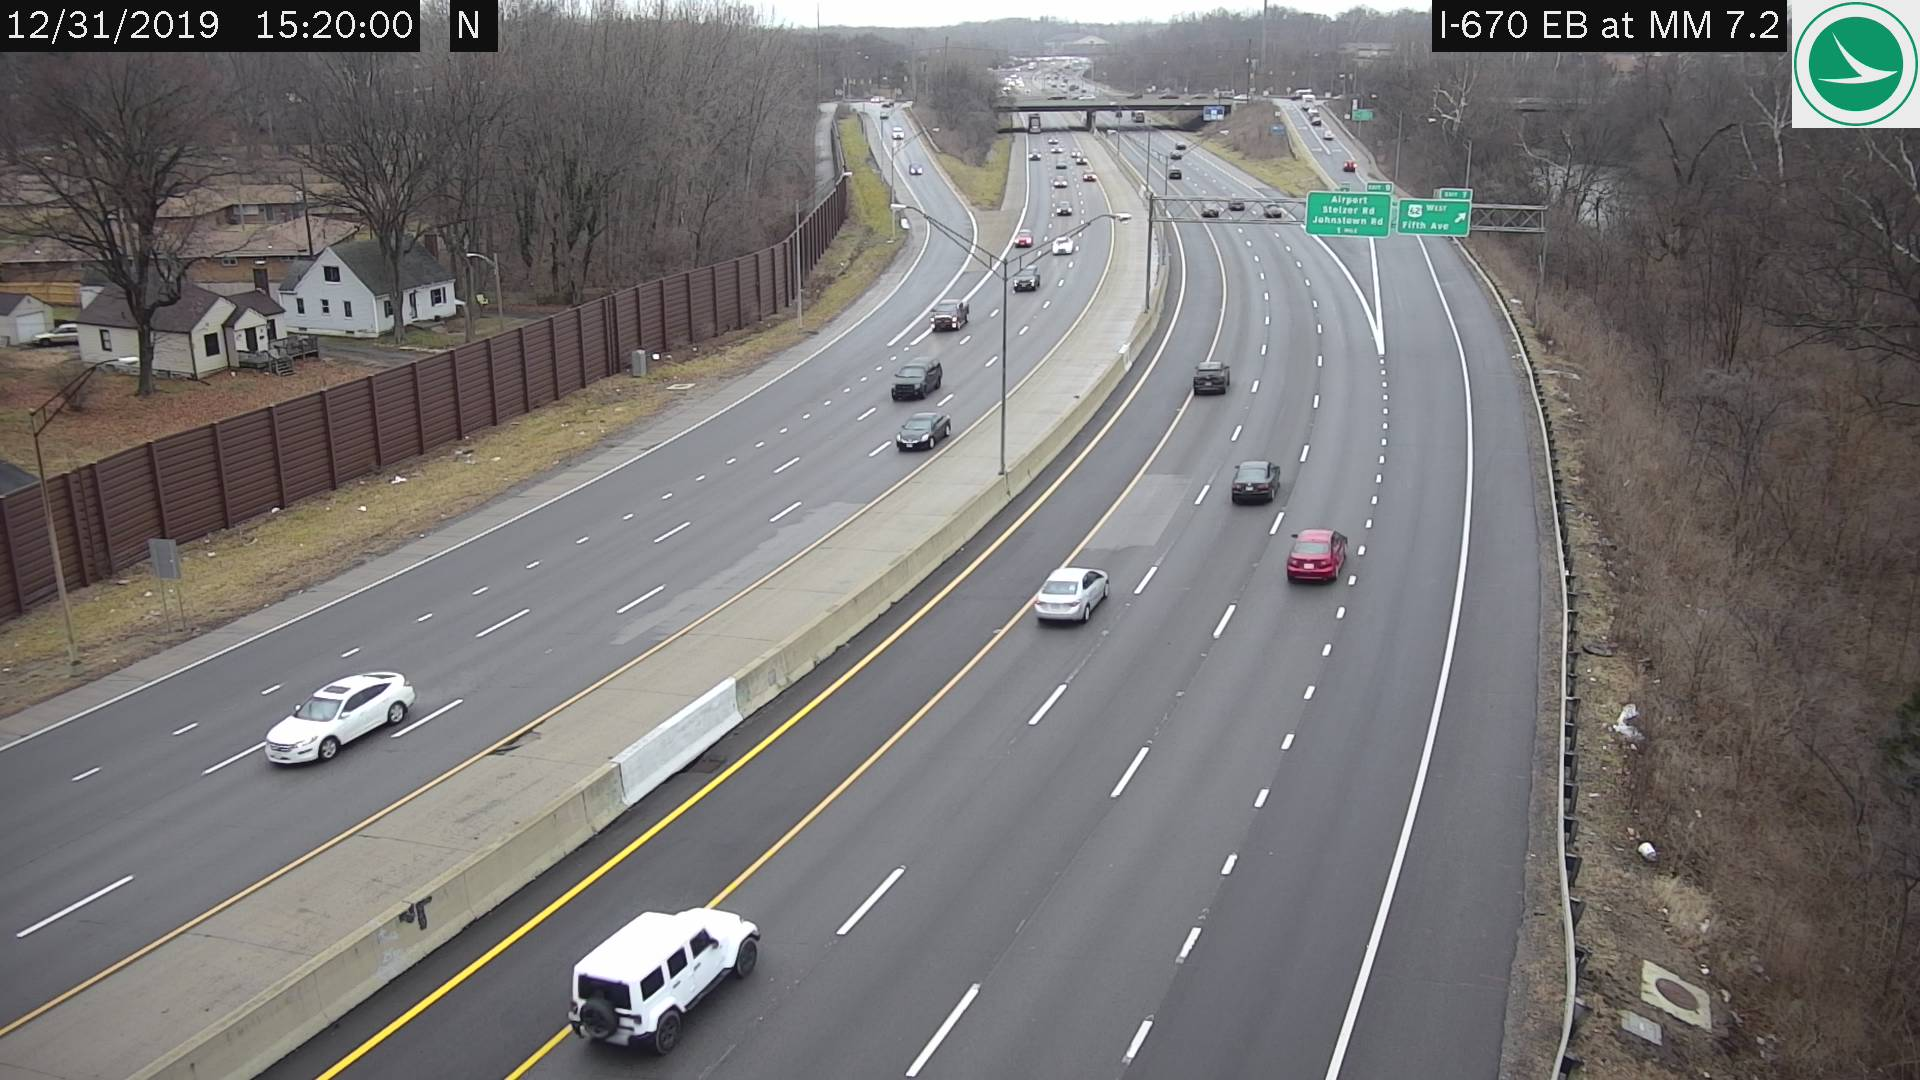car: (570, 909, 758, 1056), (262, 669, 414, 771), (1038, 564, 1106, 628), (1286, 524, 1350, 580), (898, 411, 949, 452), (1230, 460, 1278, 504), (894, 360, 942, 400), (1193, 360, 1230, 396), (931, 297, 968, 327), (1011, 266, 1036, 291), (1054, 235, 1073, 255), (1013, 229, 1031, 251), (1201, 200, 1218, 215), (1056, 200, 1071, 218), (1226, 196, 1244, 210)
